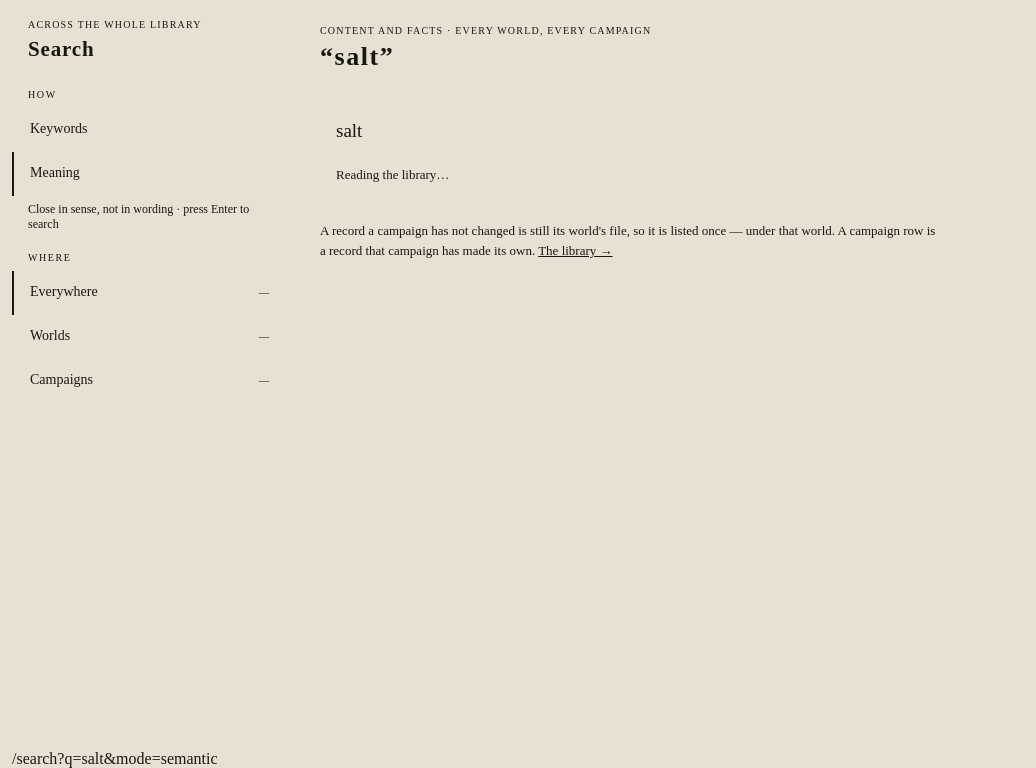
Scenario: switching modes does not queue behind the other mode's search
The image size is (1036, 768).
Click the button "Keywords": (59, 129) [12, 108, 286, 152]
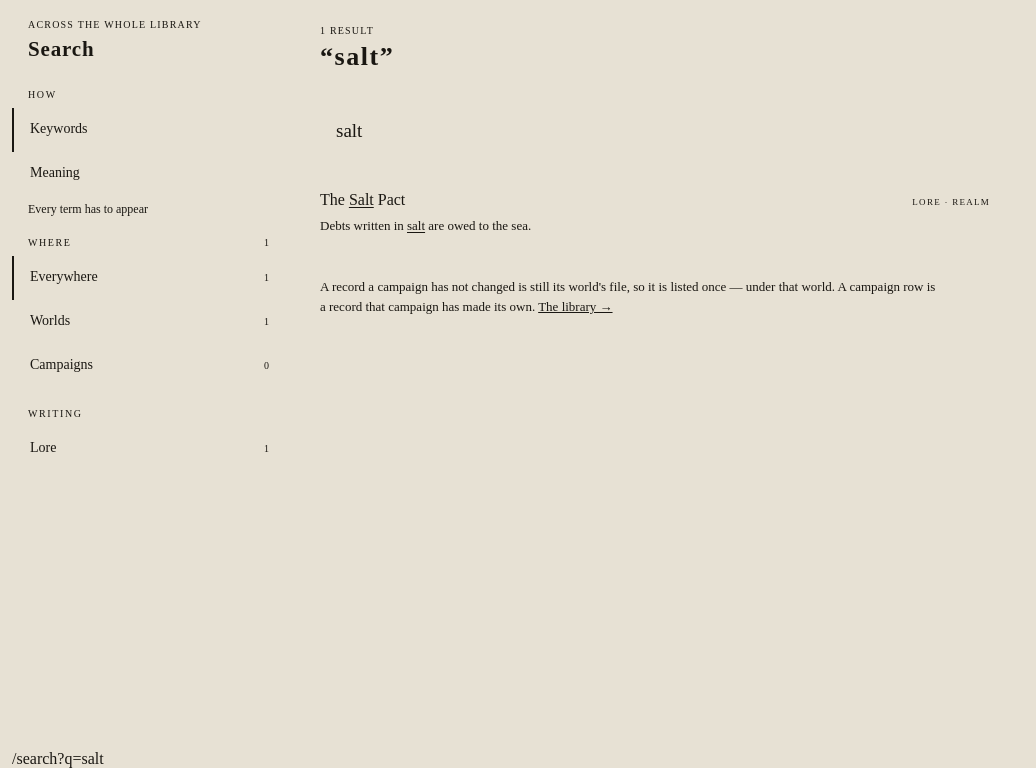
Expected: the link "The Salt Pact" is shown, [320, 191, 990, 234]
